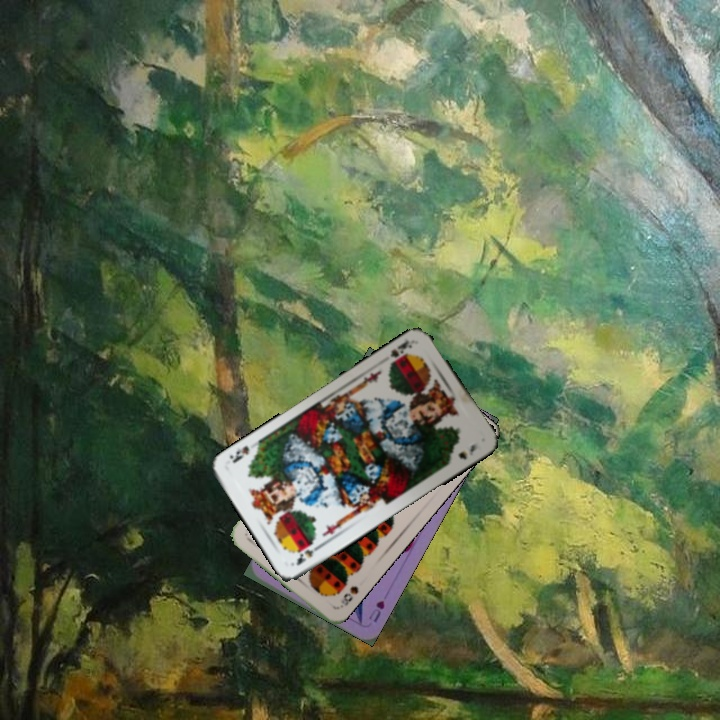HU: (365, 596, 387, 625)
S8: (333, 582, 361, 611)
SK: (385, 335, 415, 369), (292, 539, 325, 568)
